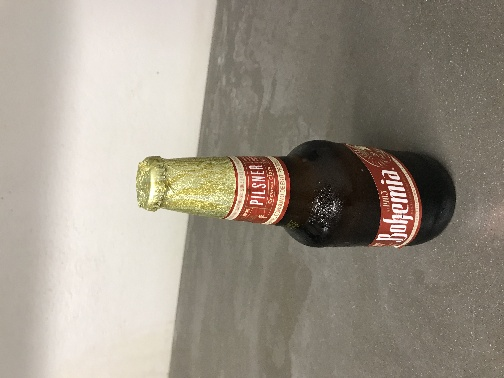BPB: (99, 104, 332, 180)
